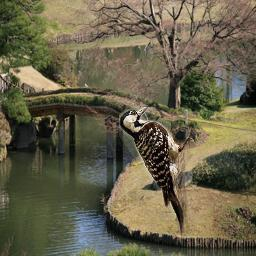Woodpecker: (119, 107, 196, 236)
